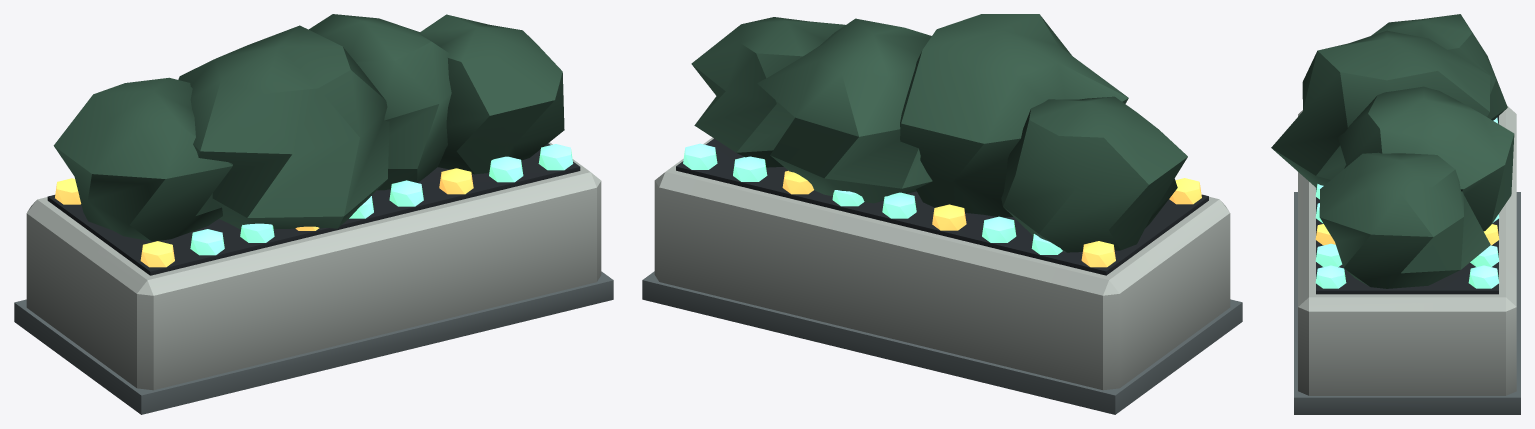
The model's file is planter.lod1.glb.
The picture shows the model from 3 angles, left to right: view 1: azimuth 30°, elevation 25°; view 2: azimuth 150°, elevation 25°; view 3: azimuth 270°, elevation 25°; orthographic projection. The views are drawn at different scales.
Parts seen in each view (by area): view 1: structure; view 2: structure; view 3: structure.
Boxes of the visible parts, left/top/right/bottom form: structure: left=14, top=14, right=613, bottom=414; structure: left=642, top=14, right=1242, bottom=414; structure: left=1271, top=14, right=1520, bottom=414.
Bounding box in the file's own units: 3.56 × 2.05 × 1.83.
